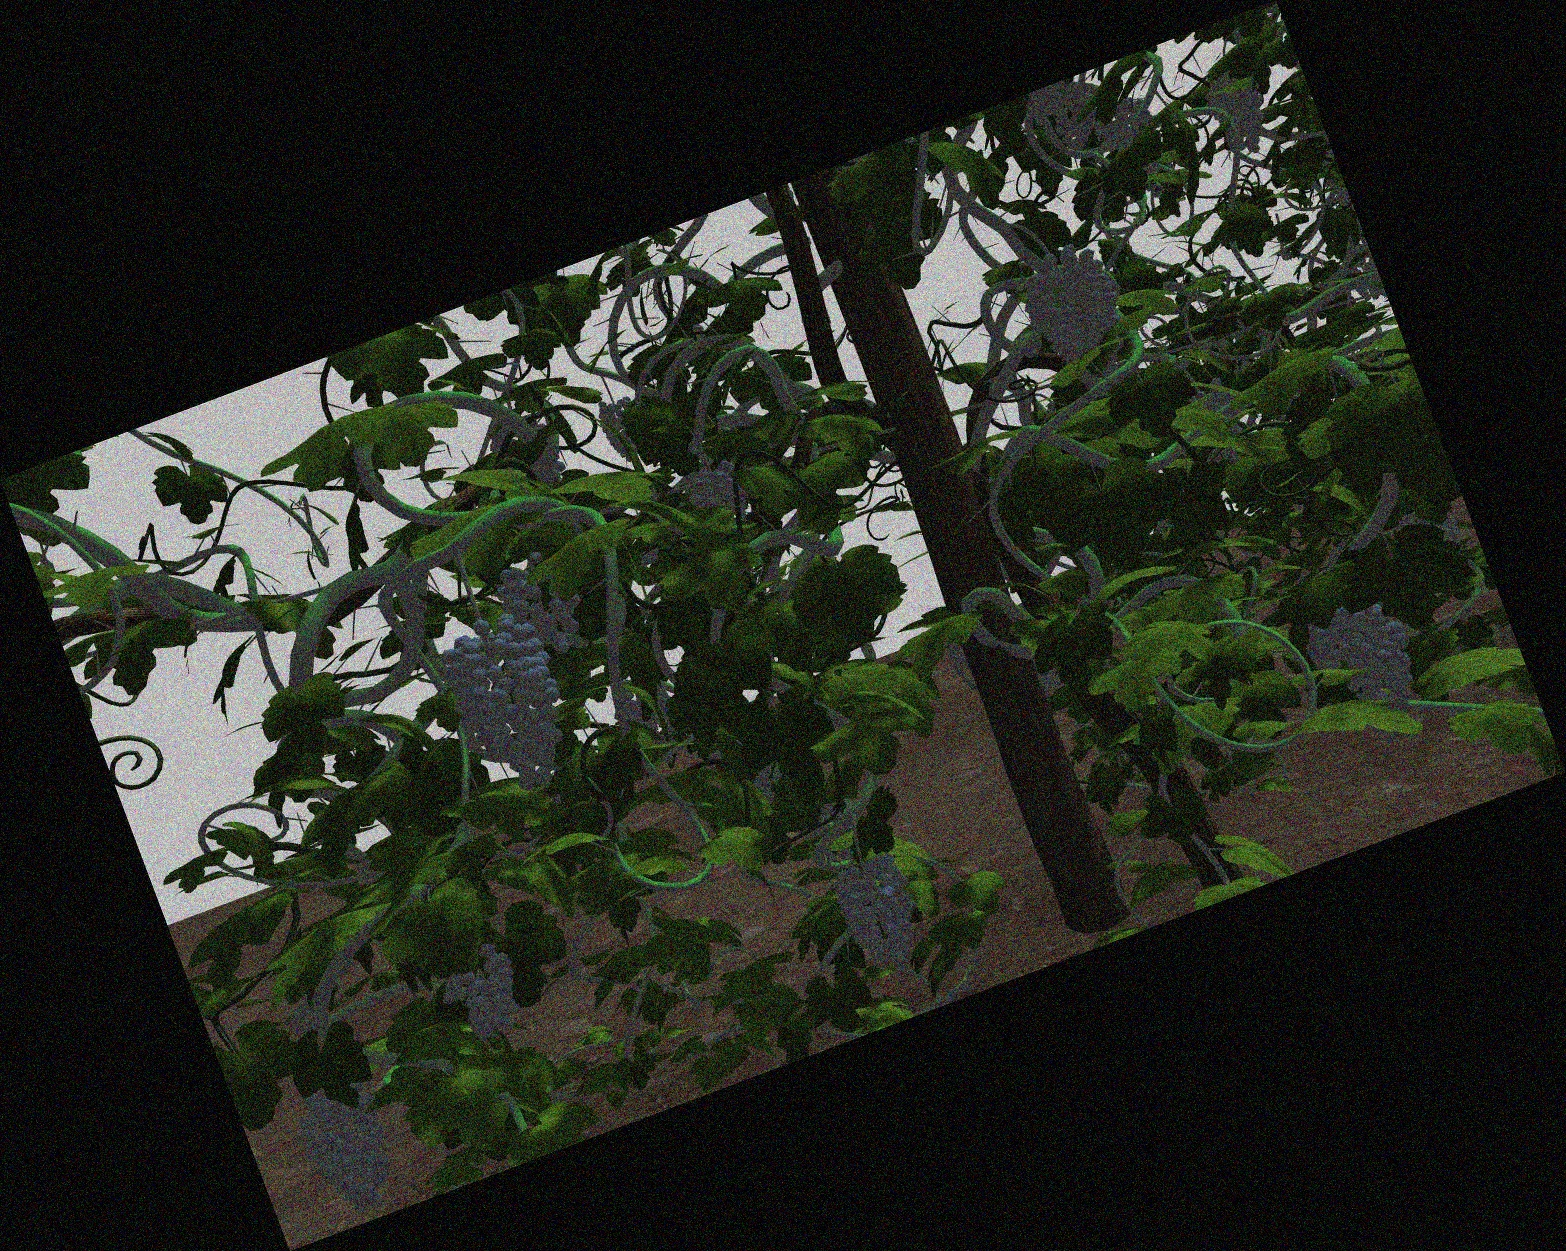grape: (457, 620, 562, 786), (1030, 248, 1118, 361), (309, 1091, 392, 1211), (1324, 603, 1410, 712), (845, 860, 918, 971), (511, 557, 581, 650), (445, 954, 523, 1031), (1214, 71, 1265, 154), (690, 463, 747, 522)
